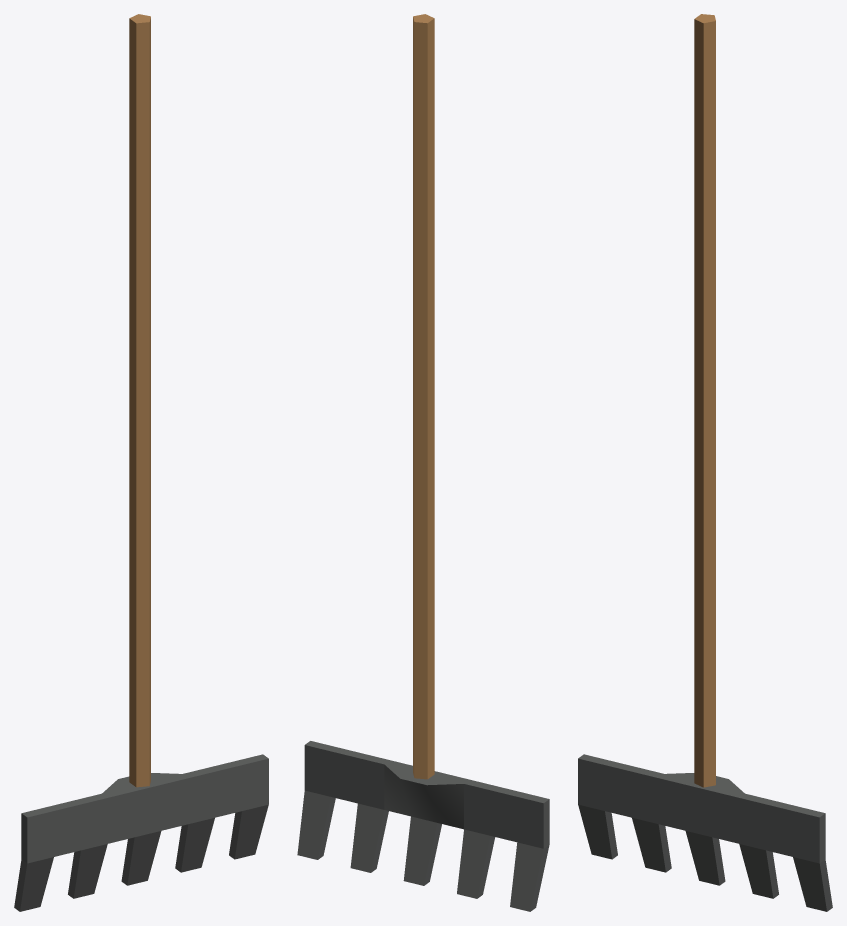
The model's file is rake.fbx.
3 renders of one model, left to right at view 1: azimuth 30°, elevation 25°; view 2: azimuth 150°, elevation 25°; view 3: azimuth 330°, elevation 25°, orthographic.
Visible parts, largest first — view 1: Rake; view 2: Rake; view 3: Rake.
Boxes of the visible parts, bbox=[...] form: Rake: bbox=[14, 14, 268, 911]; Rake: bbox=[297, 14, 549, 911]; Rake: bbox=[578, 14, 832, 911].
Bounding box in the file's own units: 3.86 × 13.24 × 0.4602.
